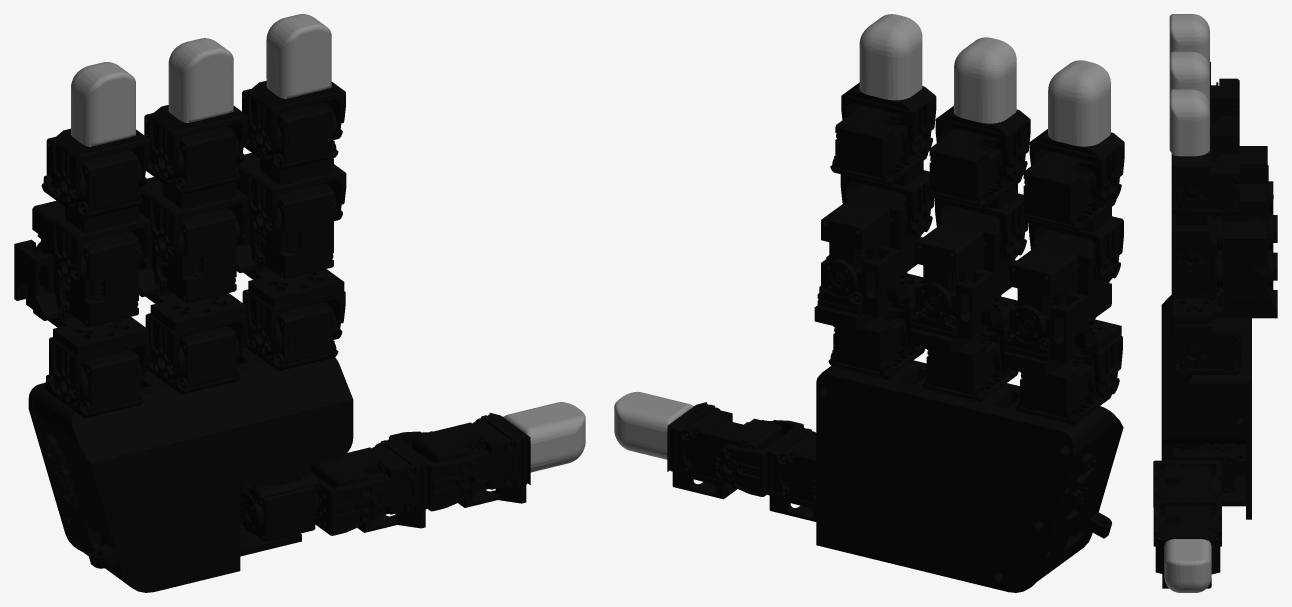
File: leap_hand_right_original.glb
3 views of the same model, side by side, from view 1: azimuth 30°, elevation 25°; view 2: azimuth 150°, elevation 25°; view 3: azimuth 270°, elevation 25° (orthographic). The views are drawn at different scales.
Parts seen in each view (by area): view 1: world; view 2: world; view 3: world.
Boxes of the visible parts, left/top/right/bottom form: world: left=14, top=14, right=585, bottom=592; world: left=614, top=14, right=1124, bottom=592; world: left=1153, top=14, right=1277, bottom=592.
Bounding box in the file's own units: 0.2397 × 0.2326 × 0.0632.
Materials: 1 (1 with a texture image).
